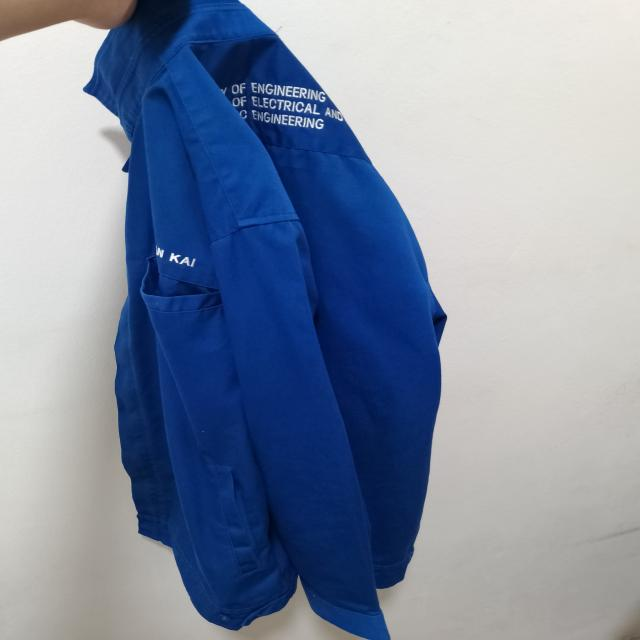person_without_labcoat: (85, 0, 448, 640)
